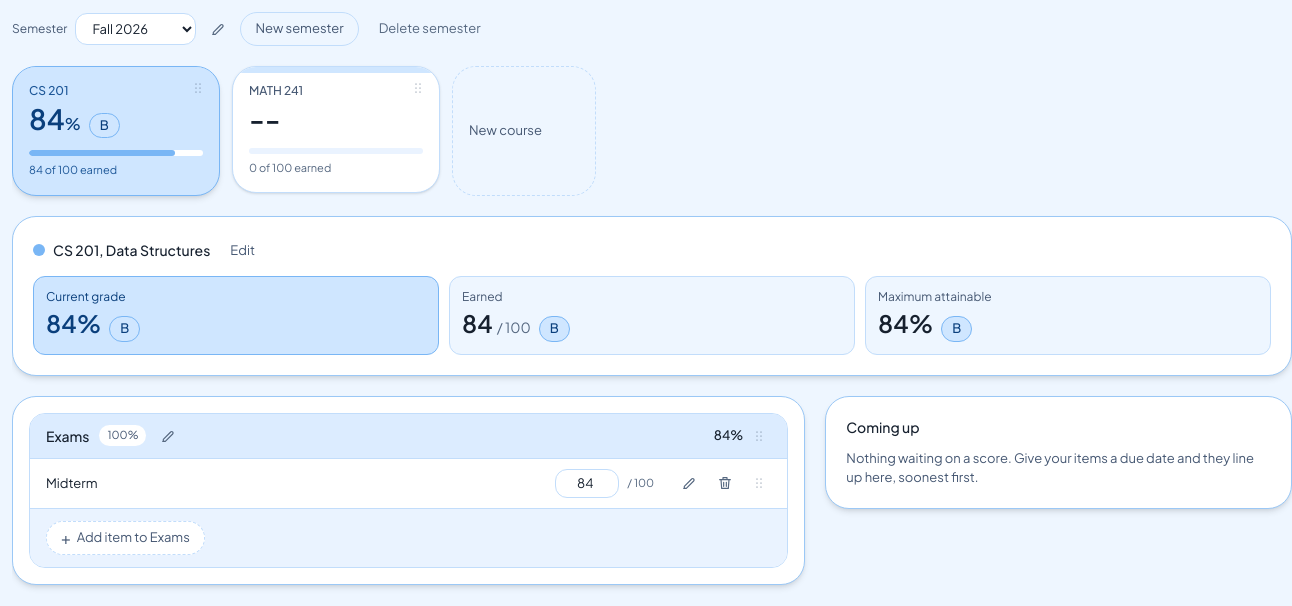
the academic page, several courses and semesters › switches course without leaving the page
Click the button "MATH 241 -- 0 of 100 earned".
click(336, 129)  # box x1=232 y1=66 x2=440 y2=193
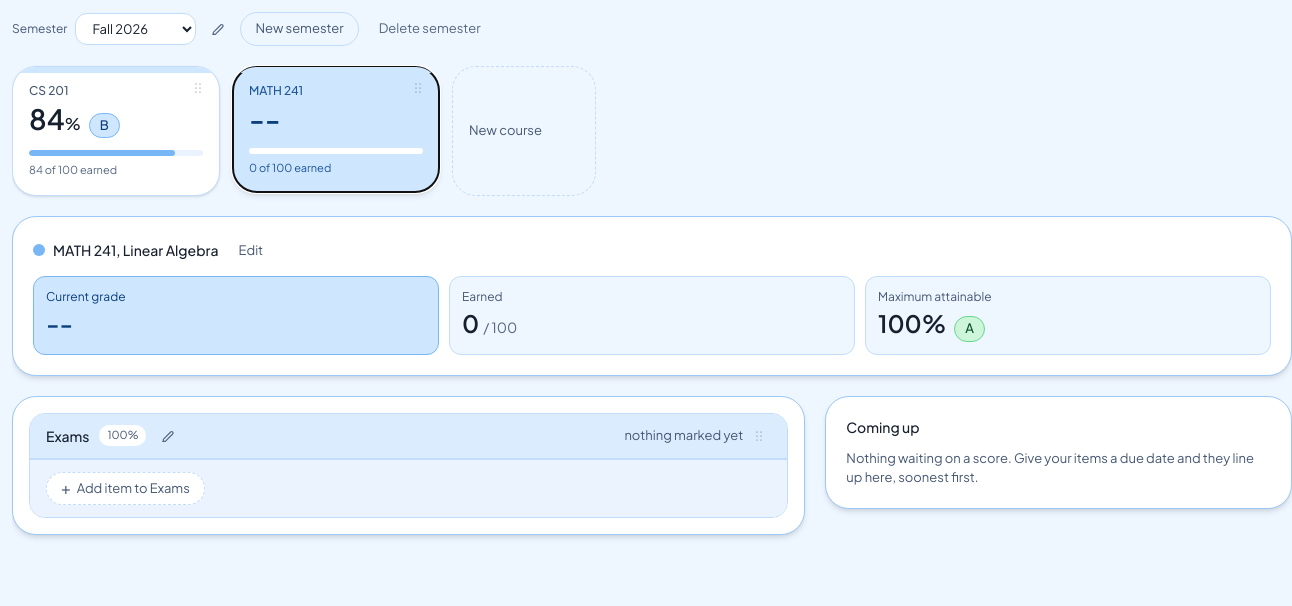
Result: the heading "MATH 241, Linear Algebra" is shown at x1=53 y1=240 x2=218 y2=260
